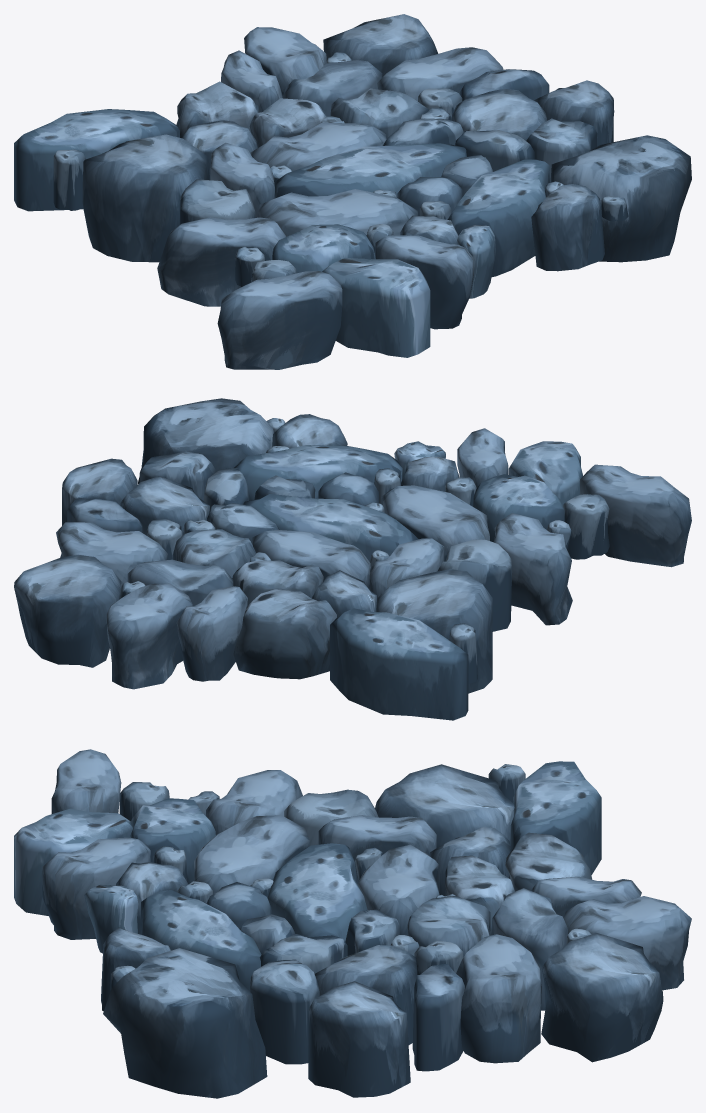
The model's file is rocky_edges_4.fbx.
3 views of the same model, one above another, from view 1: azimuth 30°, elevation 25°; view 2: azimuth 150°, elevation 25°; view 3: azimuth 270°, elevation 25° (orthographic). The views are drawn at different scales.
Visible parts, largest first — view 1: StoneEdgePieces; view 2: StoneEdgePieces; view 3: StoneEdgePieces.
Part boxes in pixels (x1,y1,x2,y2): StoneEdgePieces: (14, 14, 691, 369); StoneEdgePieces: (14, 398, 691, 720); StoneEdgePieces: (14, 749, 691, 1098).
Size of the model in its own units: 4.88 by 0.8133 by 5.11.
